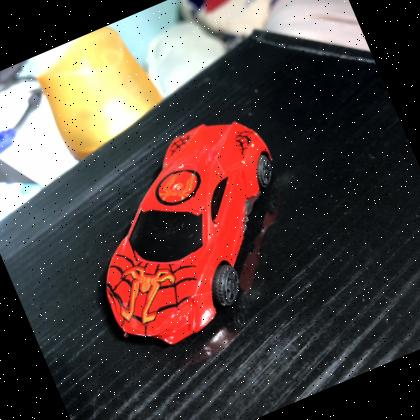Car: (46, 93, 338, 374)
